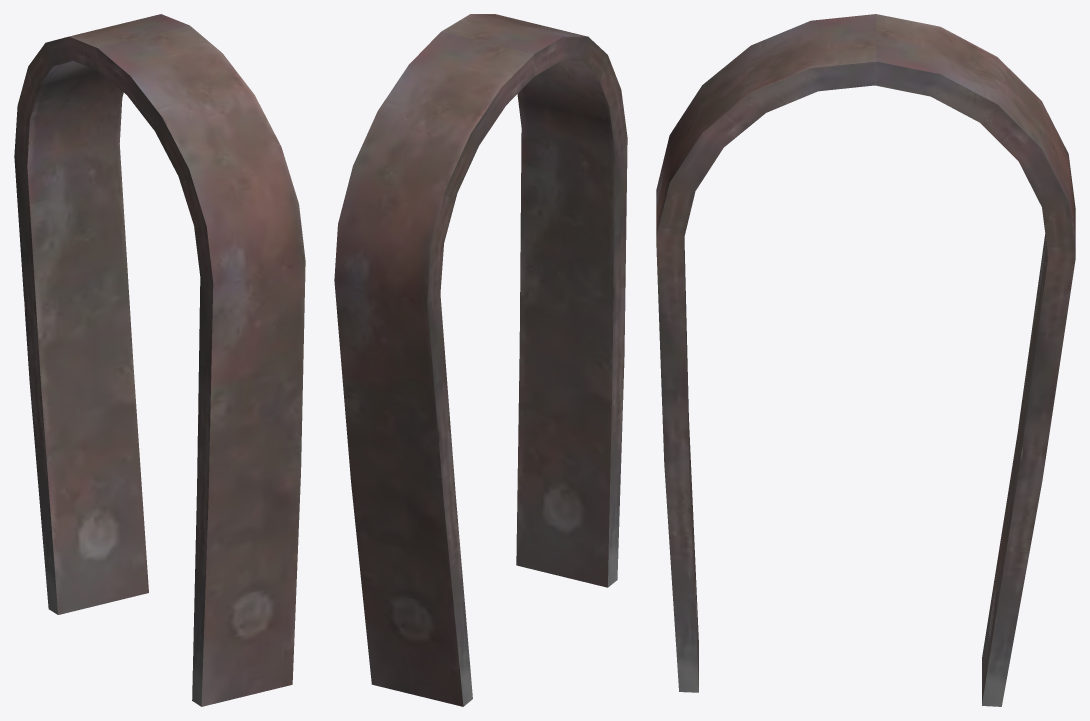
The picture shows the model from 3 angles, left to right: view 1: azimuth 30°, elevation 25°; view 2: azimuth 150°, elevation 25°; view 3: azimuth 270°, elevation 25°; orthographic projection. The views are drawn at different scales.
Visible parts, largest first — view 1: SM_Village_Hitching_Post_06_LOD0; view 2: SM_Village_Hitching_Post_06_LOD0; view 3: SM_Village_Hitching_Post_06_LOD0.
Boxes of the visible parts, bbox=[...] form: SM_Village_Hitching_Post_06_LOD0: bbox=[14, 14, 305, 706]; SM_Village_Hitching_Post_06_LOD0: bbox=[334, 14, 627, 706]; SM_Village_Hitching_Post_06_LOD0: bbox=[656, 14, 1075, 706].
Size of the model in its own units: 0.0871 by 0.4871 by 0.2891.
Materials: 1 (1 with a texture image).
